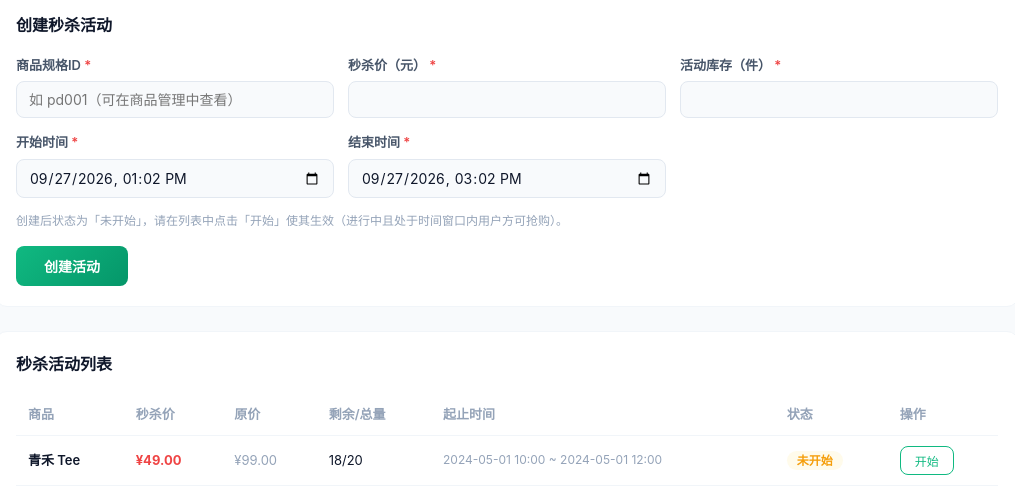
Scenario: admin/Seckill 秒杀管理 › 开始活动：NOT_START → ONGOING 并刷新列表
The image size is (1015, 492).
Click the button with class "btn-toggle": click(927, 460) [900,446,954,475]
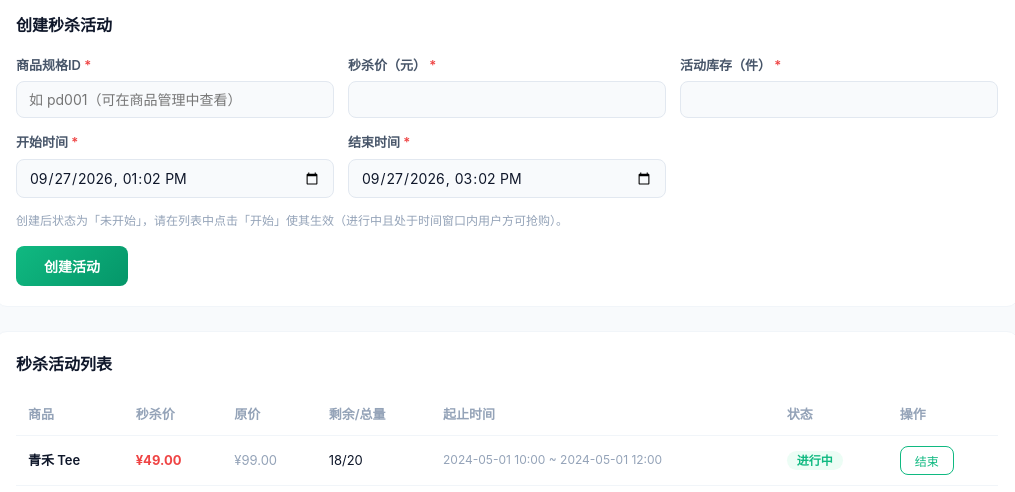
Now the text with class "badge" reads "进行中", box [797,453,833,468]
Now the button with class "btn-toggle" reads "结束", box [900,446,954,475]
